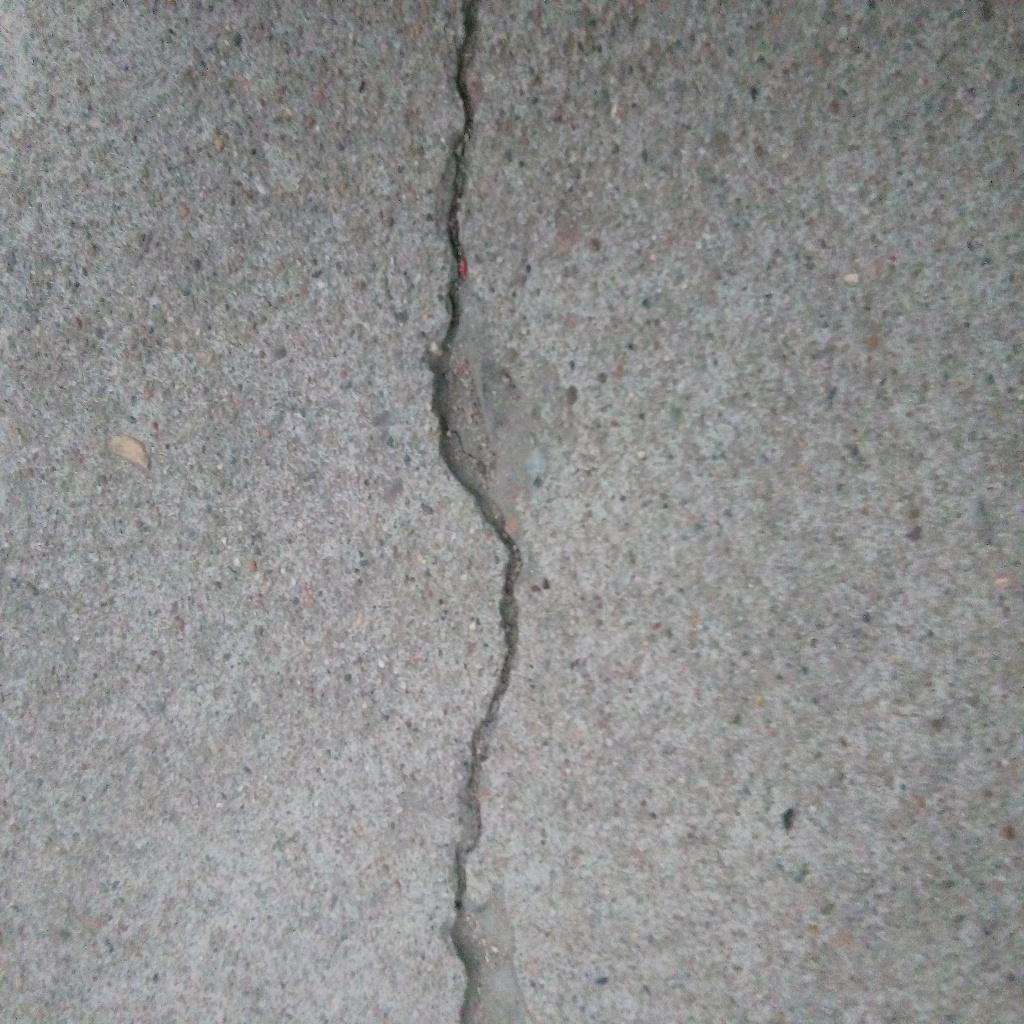Crack: (430, 1, 525, 1024)
Spalling: (443, 280, 576, 535)
